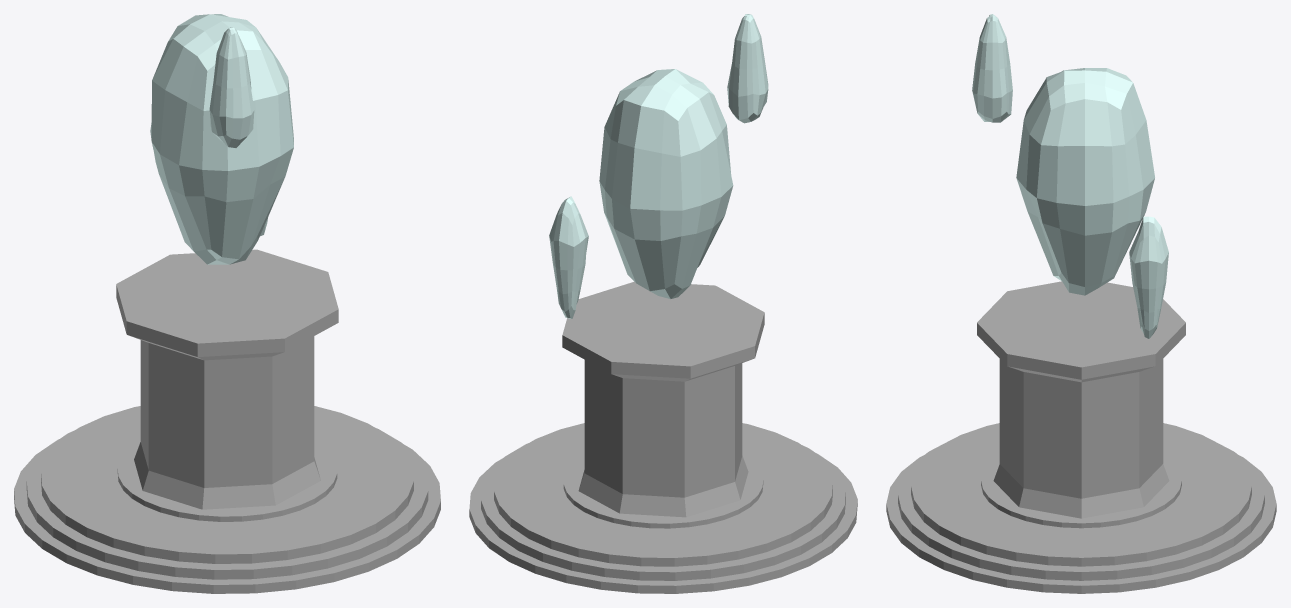
Rendered from meta.fbx.
3 views of the same model, side by side, from view 1: azimuth 30°, elevation 25°; view 2: azimuth 150°, elevation 25°; view 3: azimuth 270°, elevation 25° (orthographic). The views are drawn at different scales.
Parts seen in each view (by area): view 1: Circle, Circle.001, Circle.003; view 2: Circle, Circle.001, Circle.003, Circle.002; view 3: Circle, Circle.001, Circle.002, Circle.003.
Part boxes in pixels (<box>): Circle: <box>14,249,440,593</box>; Circle.001: <box>150,14,293,264</box>; Circle.003: <box>209,27,254,147</box>; Circle: <box>469,281,857,593</box>; Circle.001: <box>599,69,733,298</box>; Circle.003: <box>727,14,768,123</box>; Circle.002: <box>549,196,588,318</box>; Circle: <box>886,281,1276,593</box>; Circle.001: <box>1016,68,1154,295</box>; Circle.002: <box>1129,216,1168,338</box>; Circle.003: <box>972,14,1012,122</box>.
Size of the model in its own units: 384 by 517 by 384.
